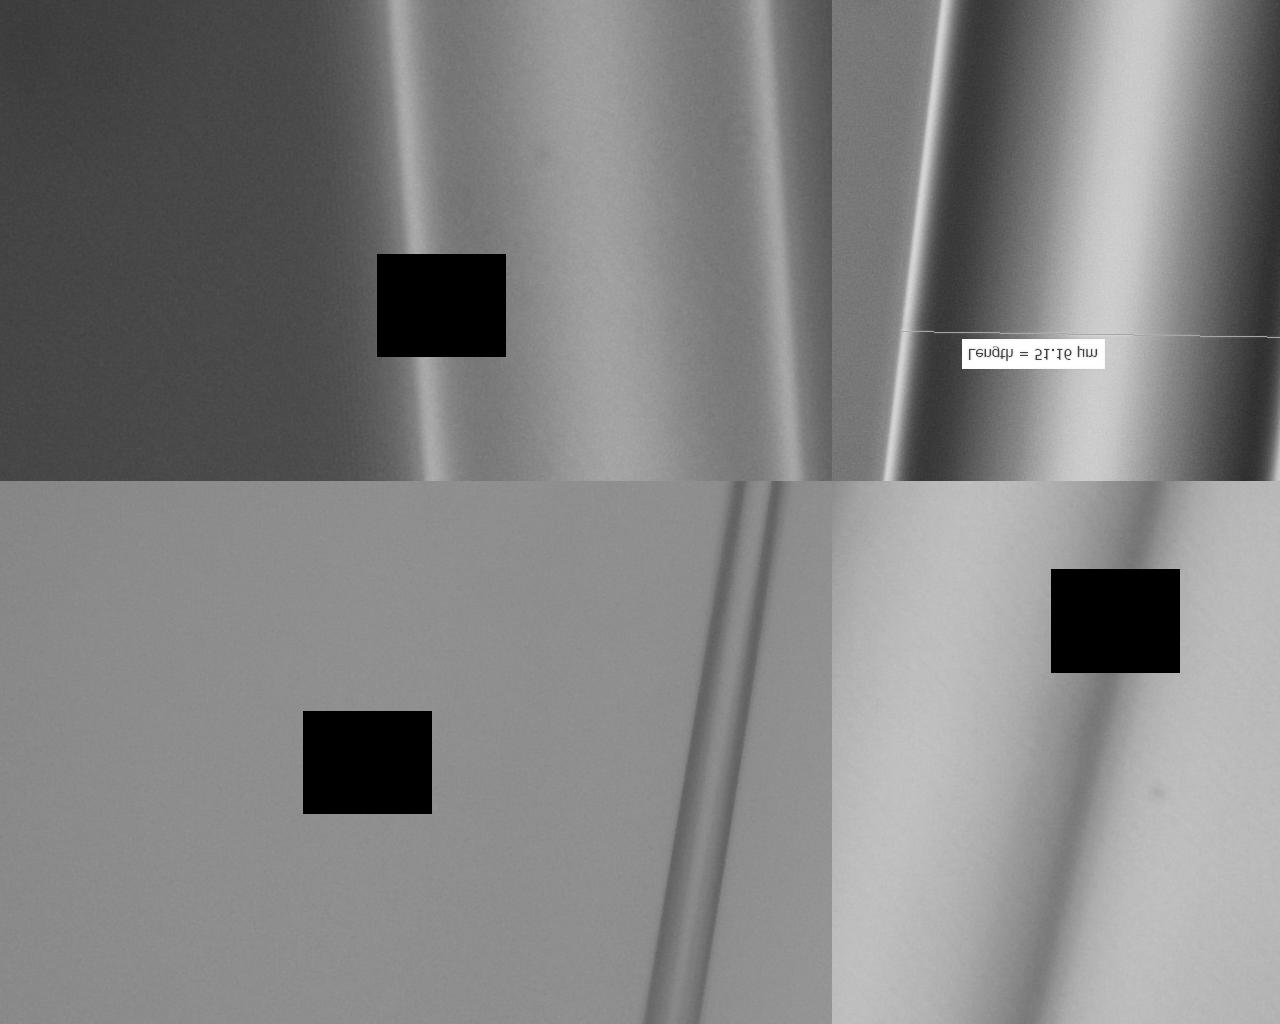fiber: (128, 464, 1152, 701)
